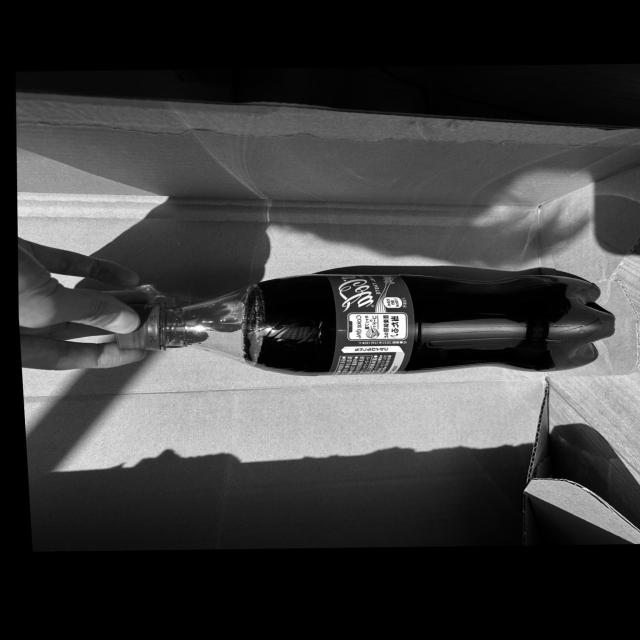high: (117, 269, 614, 377)
